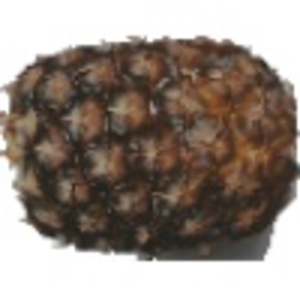abacaxi: (6, 27, 298, 252)
